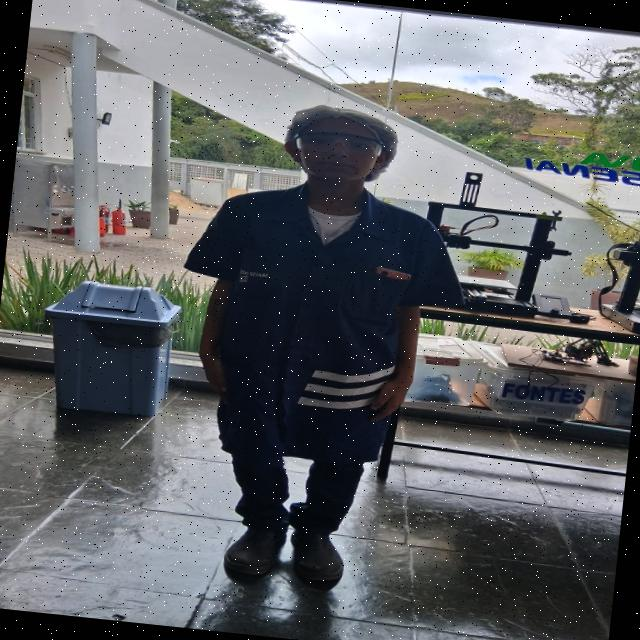BOTA: (226, 512, 291, 579), (289, 525, 346, 583)
JALECO: (185, 181, 478, 464)
OCULOS: (285, 131, 388, 160)
SEM LUVA: (356, 372, 421, 424), (192, 356, 233, 405)
TOUCA: (285, 107, 399, 182)
